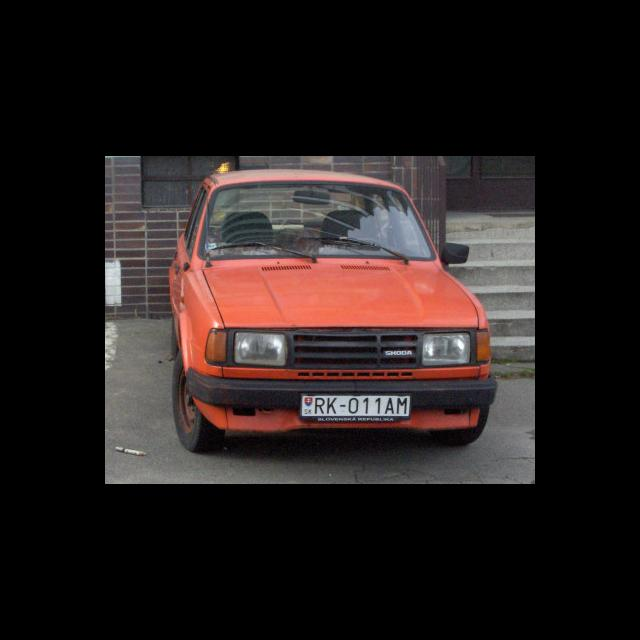Plate: (298, 391, 412, 420)
